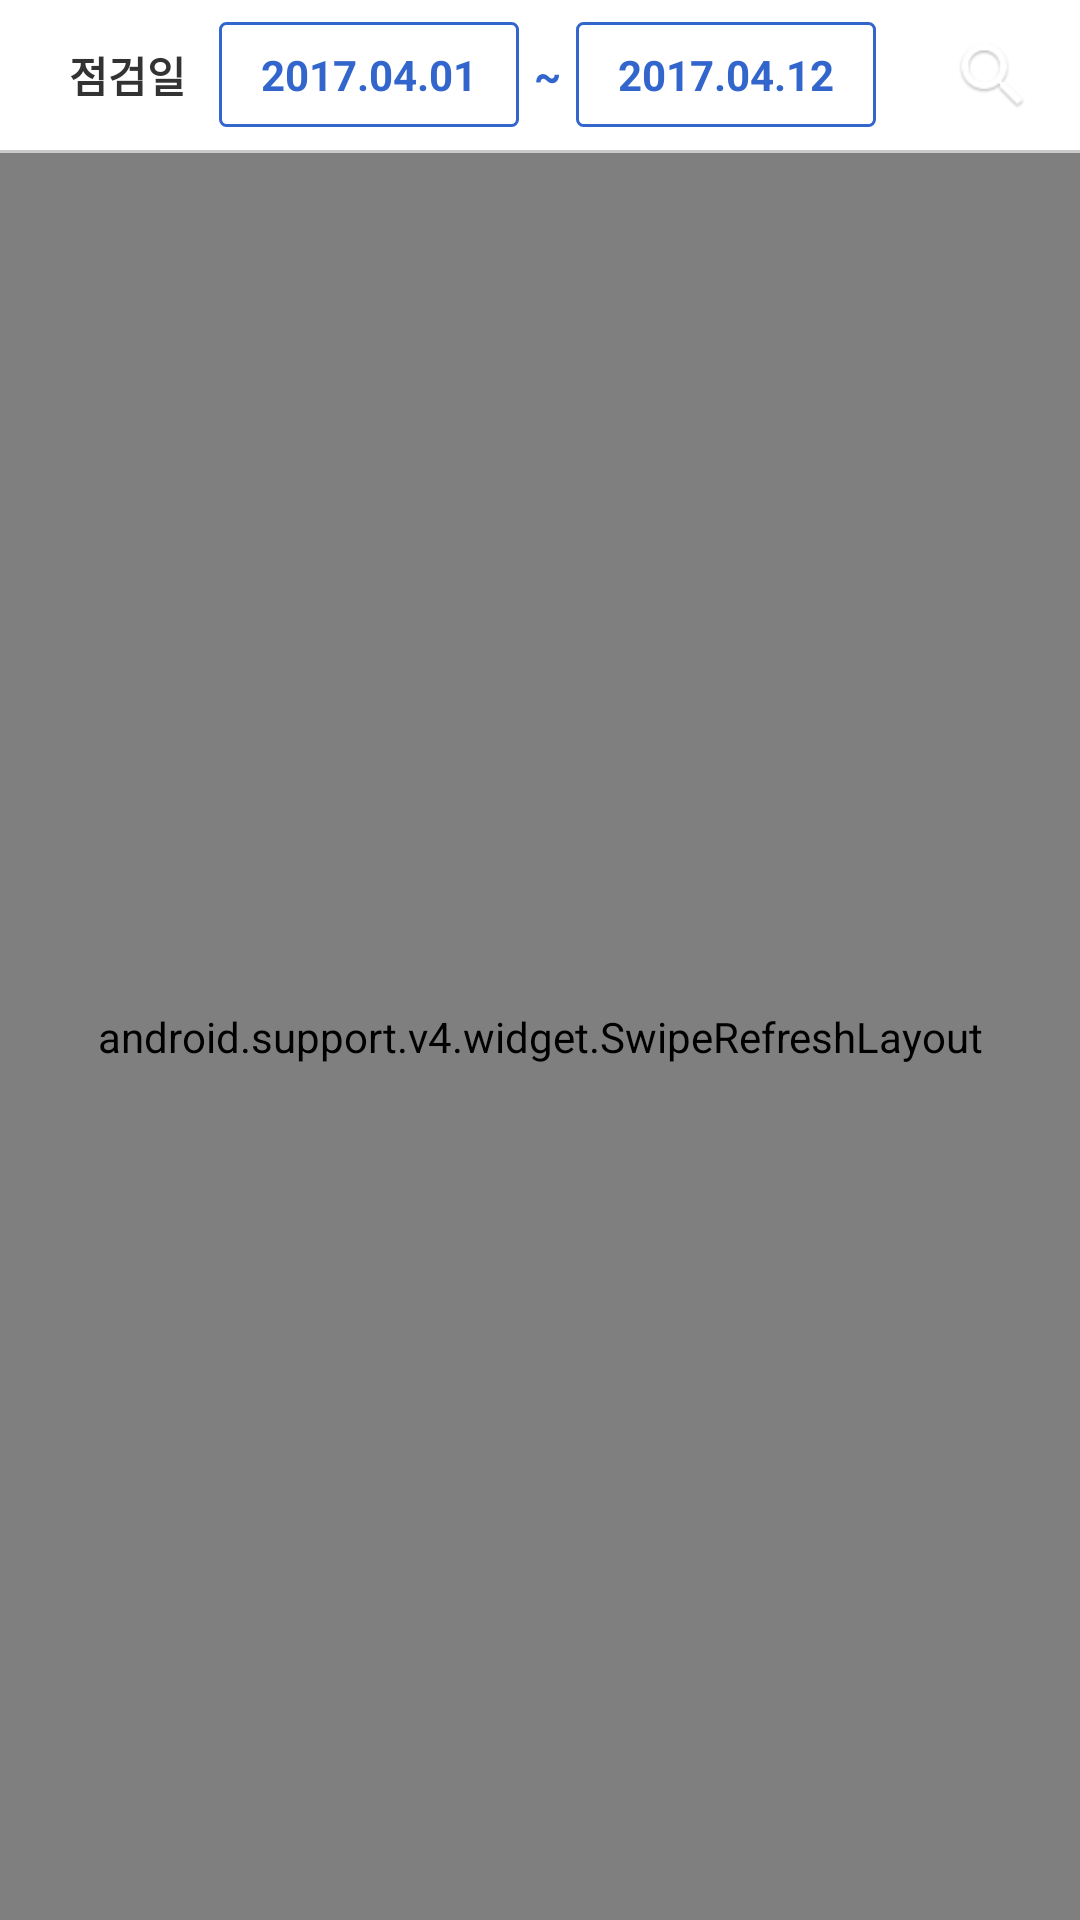

Point at icon controls on the screen. Image size 1080 × 1920, points as (x=x, y=y).
top search: (x=992, y=78)
